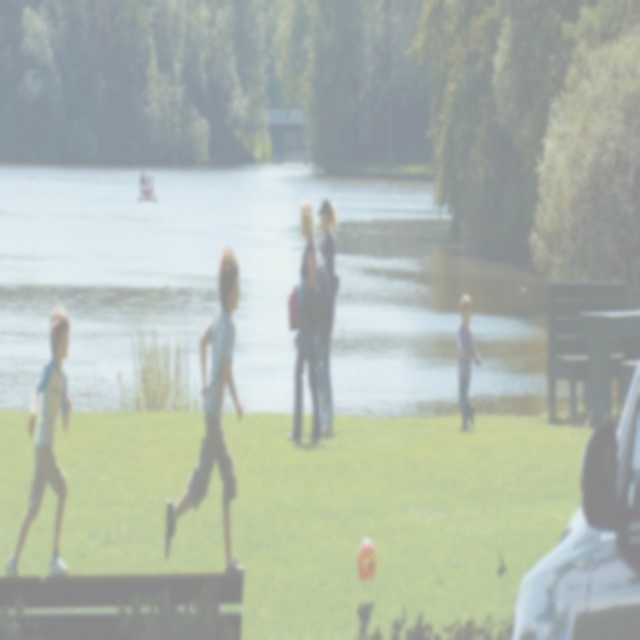pessoa: (163, 240, 247, 582), (5, 300, 73, 596), (286, 200, 324, 448), (314, 197, 336, 434), (456, 292, 482, 436), (139, 168, 146, 198), (304, 134, 310, 167), (149, 174, 155, 201), (146, 174, 150, 194)
